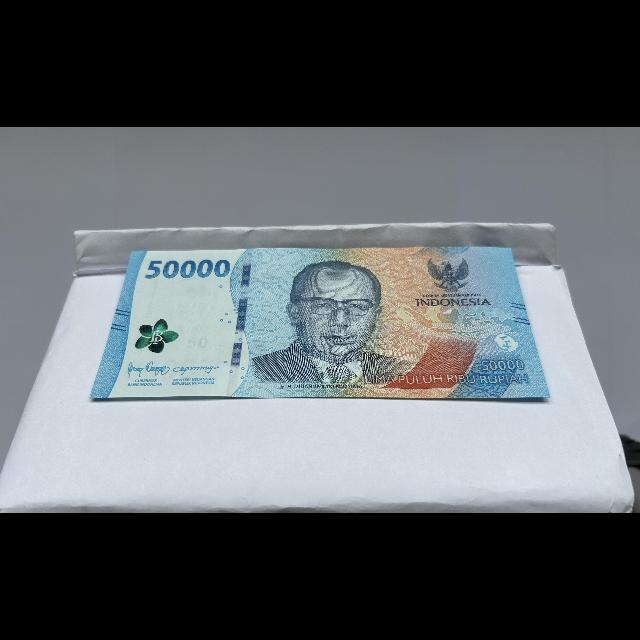Asli-50k: (86, 243, 553, 404)
Tinta-Asli-50k: (132, 315, 184, 358)
